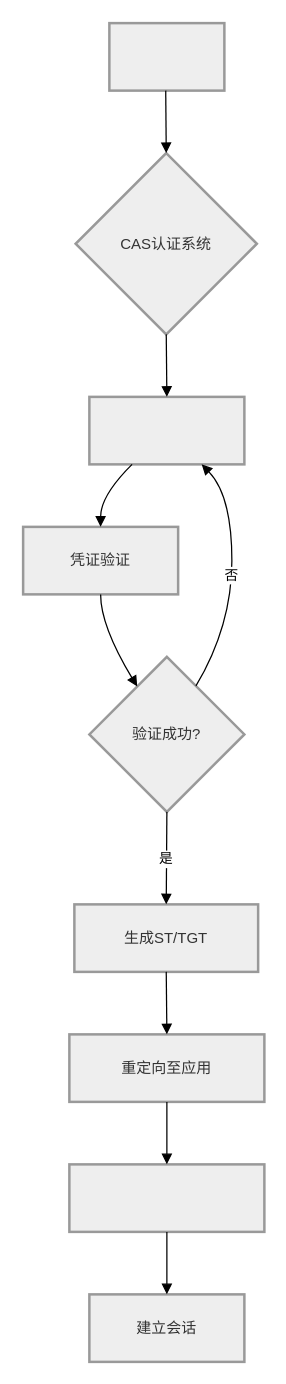
This 286x1384 diagram has some shape labels left out. The shapes that lost their labels are listed below. From the top down, each one's centre as x and y in pixels, then its label:
the point at 166,56: 用户
the point at 166,430: 登录页面
the point at 166,1197: 应用验证票据
